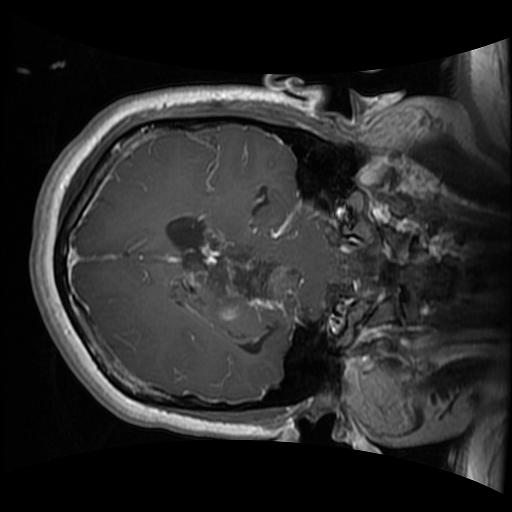glioma: (164, 213, 304, 353)
